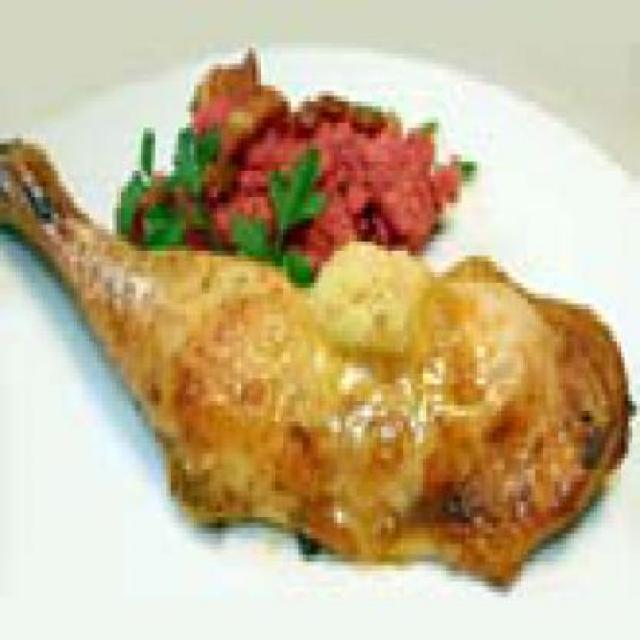Chicken roast: (4, 118, 621, 576)
